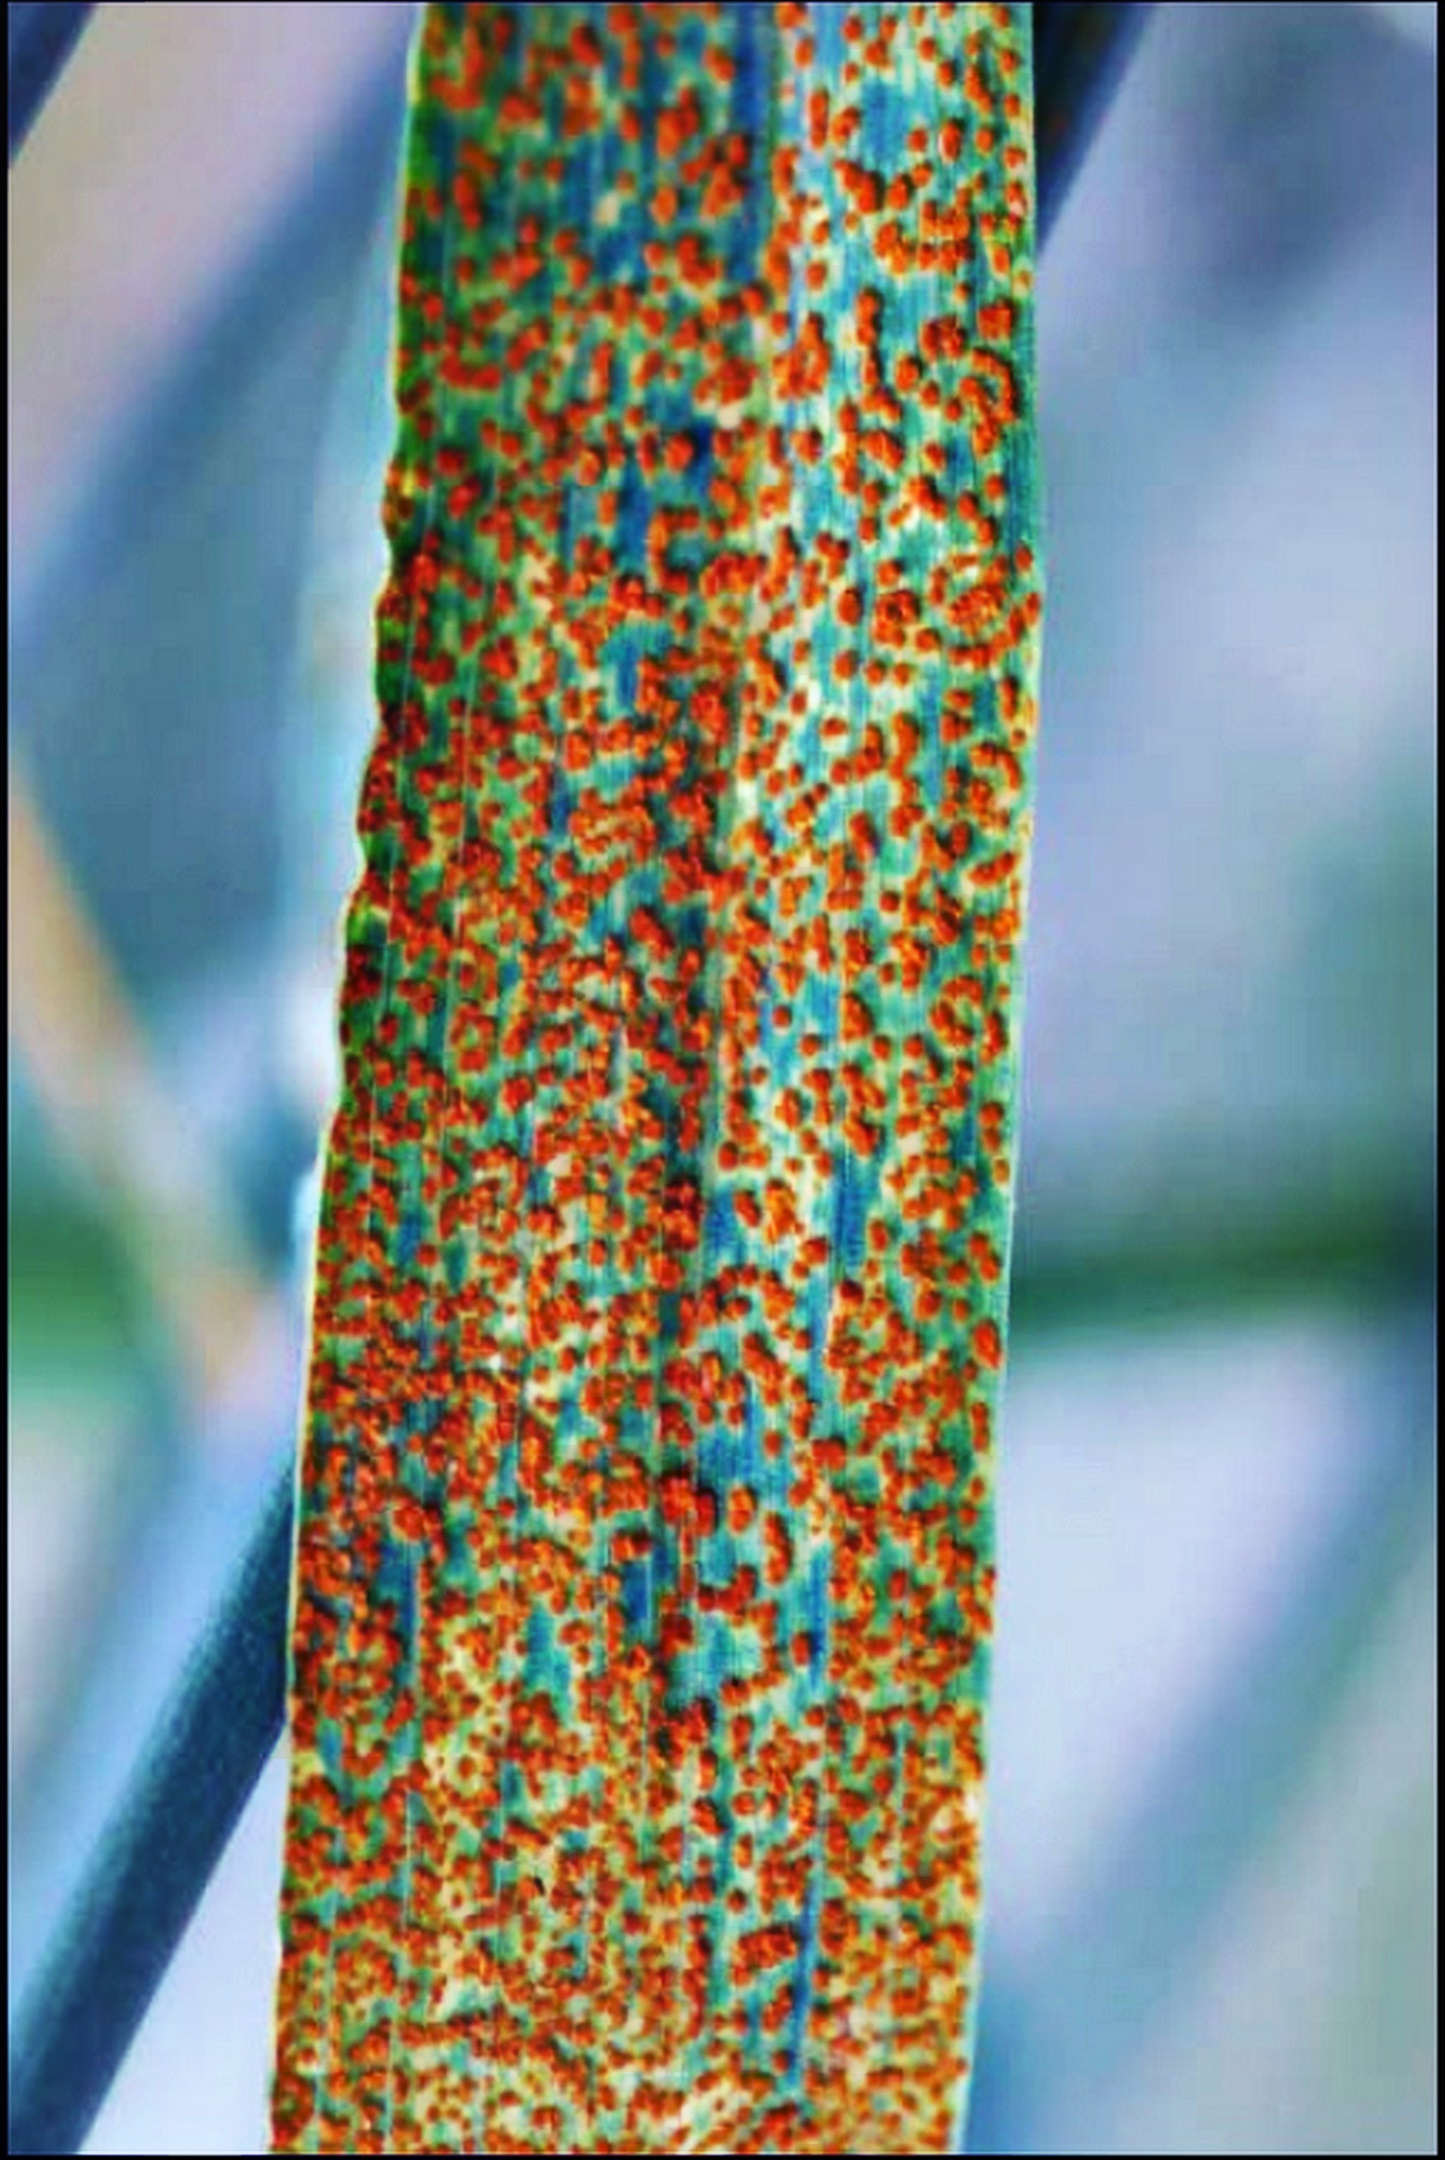Leaf Rust: (273, 52, 1072, 2149)
